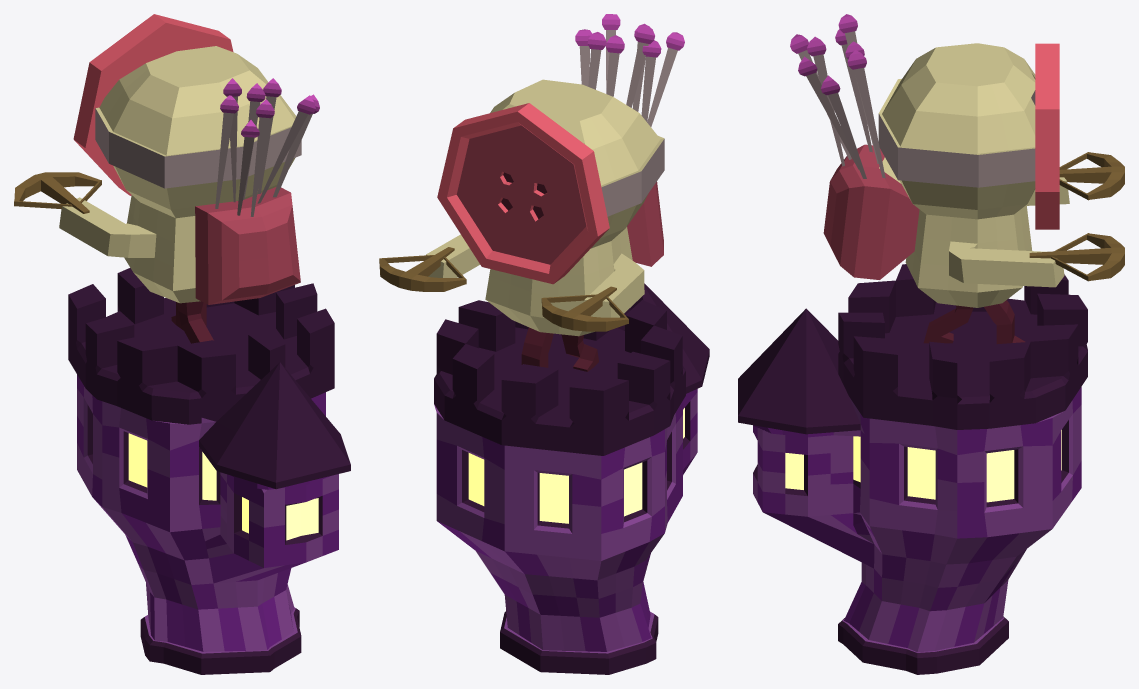
Rendered from Archer.fbx.
3 renders of one model, left to right at view 1: azimuth 30°, elevation 25°; view 2: azimuth 150°, elevation 25°; view 3: azimuth 270°, elevation 25°, orthographic. The views are drawn at different scales.
Visible parts, largest first — view 1: Cube.001, Cone.004, Cube; view 2: Cube.001, Cone.004, Cube, Cube.002; view 3: Cube.001, Cone.004, Cube.002, Cube.
Boxes of the visible parts, left/top/right/bottom form: Cube.001: left=68, top=268, right=350, bottom=674; Cone.004: left=59, top=14, right=319, bottom=343; Cube: left=14, top=172, right=101, bottom=213; Cube.001: left=434, top=283, right=709, bottom=674; Cone.004: left=426, top=14, right=684, bottom=371; Cube: left=541, top=286, right=628, bottom=331; Cube.002: left=379, top=247, right=466, bottom=291; Cube.001: left=738, top=264, right=1087, bottom=674; Cone.004: left=790, top=14, right=1069, bottom=344; Cube.002: left=1029, top=233, right=1124, bottom=281; Cube: left=1059, top=152, right=1124, bottom=200.
Size of the model in its own units: 303 by 690 by 397.
